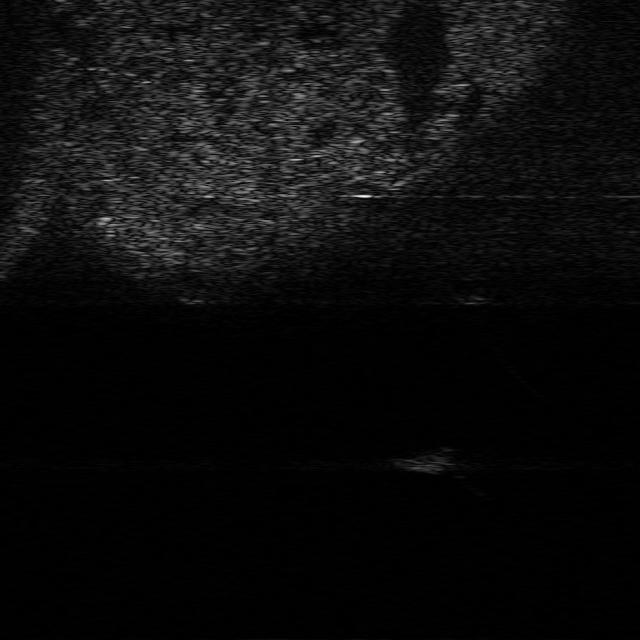ball: (447, 273, 495, 305)
cube: (388, 446, 457, 476)
